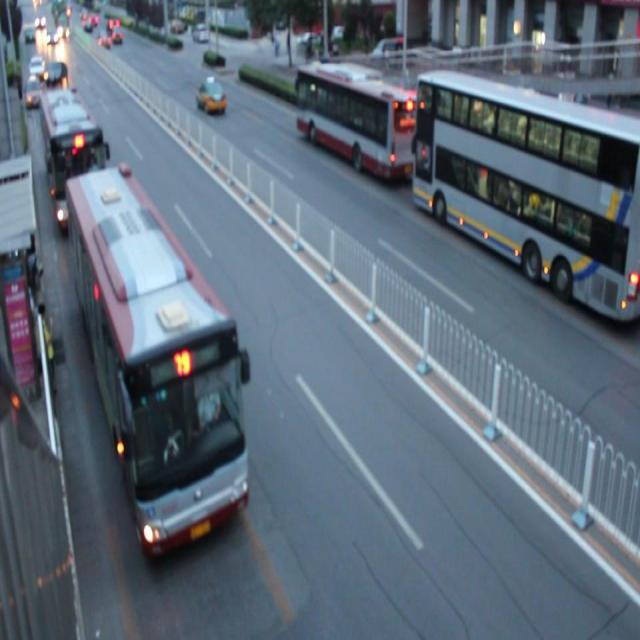car: (195, 78, 226, 118)
van: (64, 176, 247, 530), (414, 71, 640, 319), (294, 64, 423, 183), (38, 89, 106, 227)
